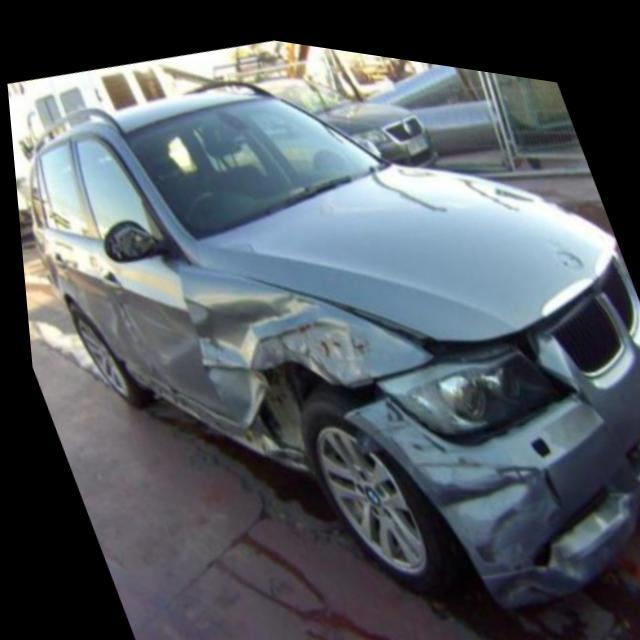dent: (192, 286, 362, 461)
lamp broken: (363, 342, 566, 442)
rub: (337, 385, 575, 590), (104, 296, 186, 360)
scratch: (143, 375, 216, 425), (179, 292, 201, 315)
